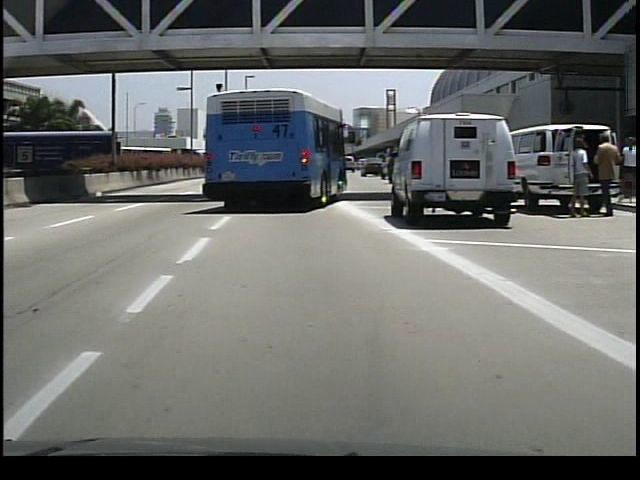person: (586, 130, 618, 220), (564, 134, 587, 219)
